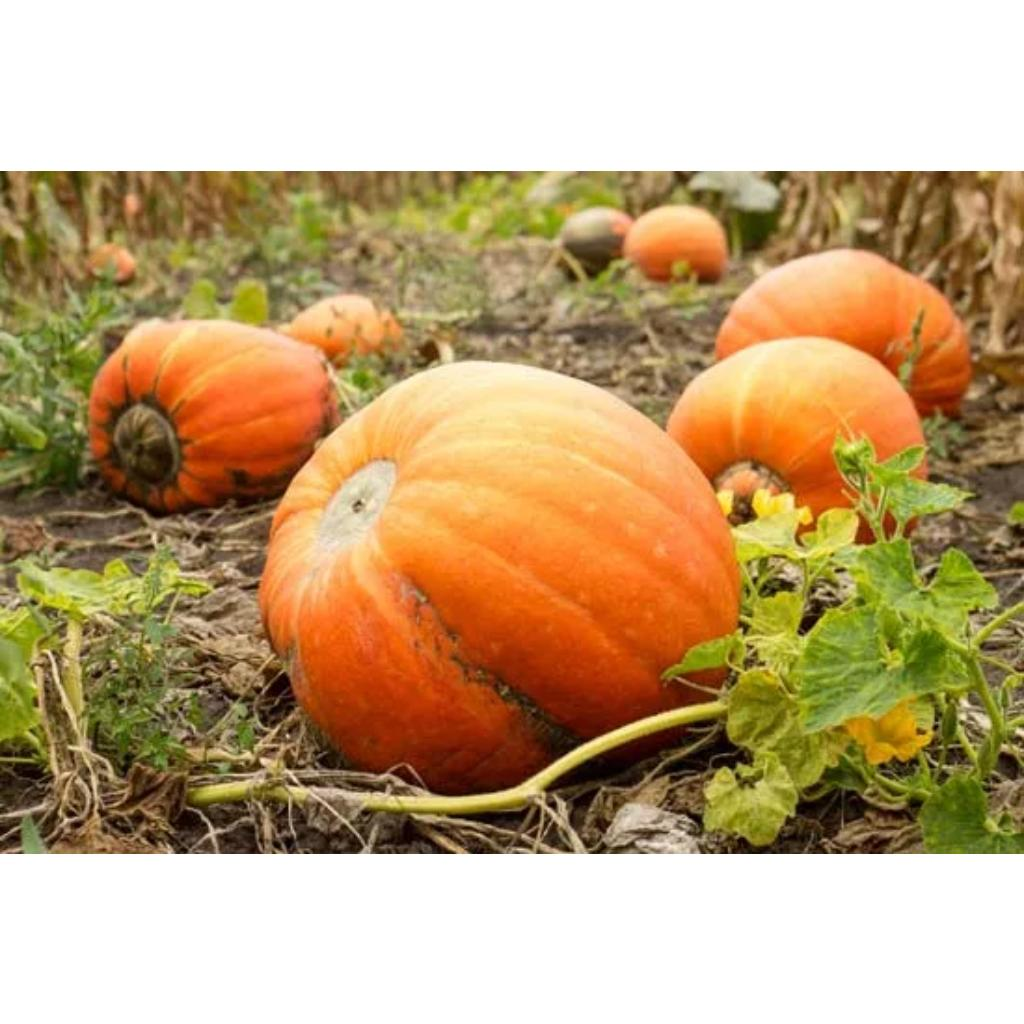pumpkin: (260, 360, 740, 792), (90, 318, 338, 511), (668, 338, 924, 521), (718, 248, 972, 414), (624, 204, 728, 280), (290, 294, 402, 363), (562, 208, 632, 273)
